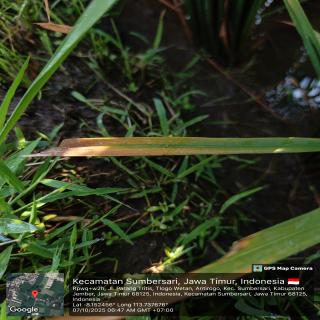Hawar-Daun: (29, 137, 259, 156)
